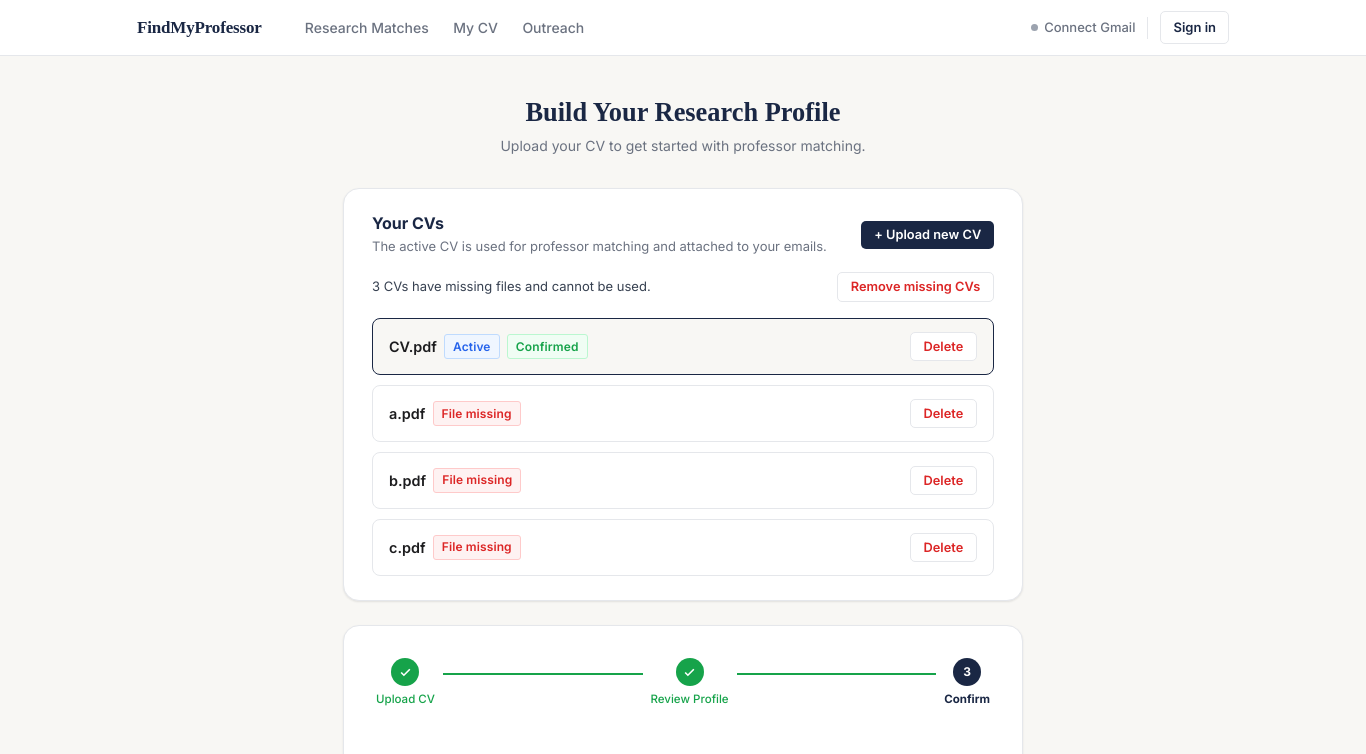
Test: My CV library cleanup › removes every CV with a missing file after one confirmation
Click the button "Remove missing CVs": (916, 287) [837,272,994,302]
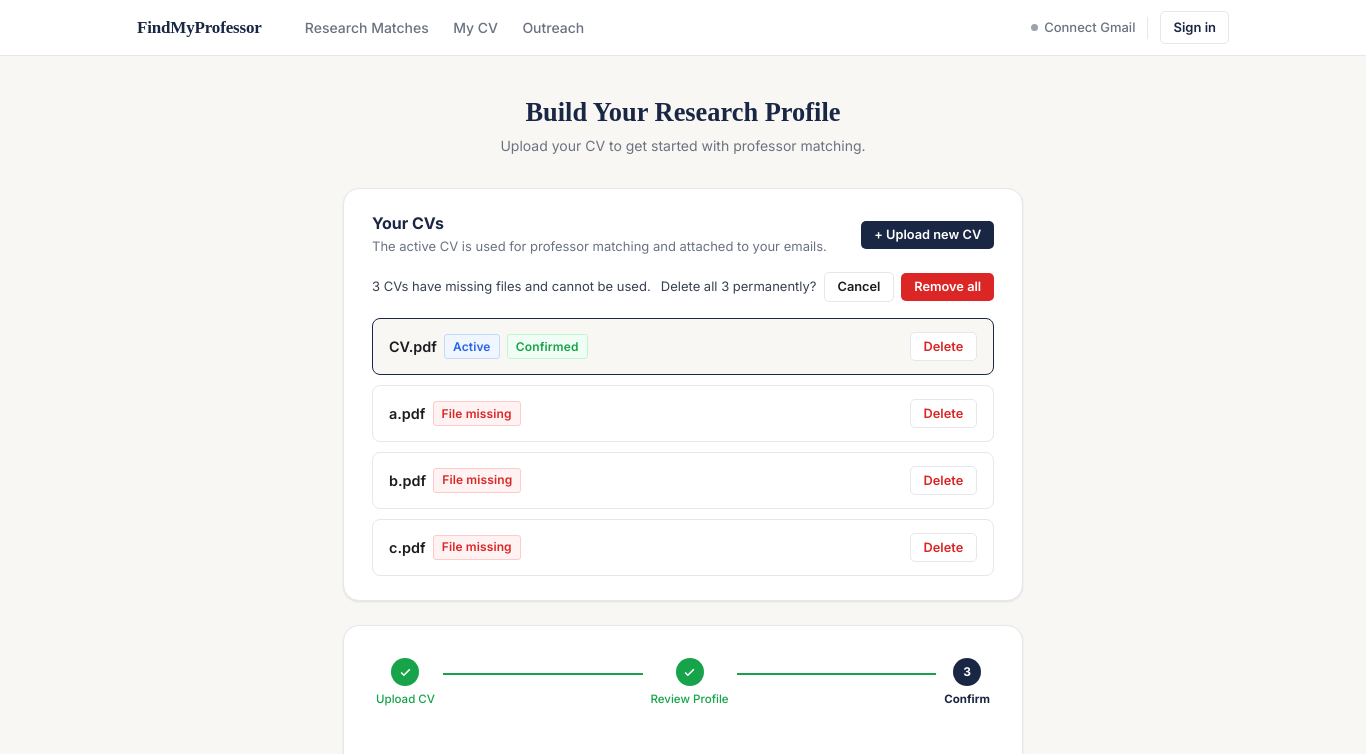
Click the button "Remove all": (948, 287) [902,273,994,301]
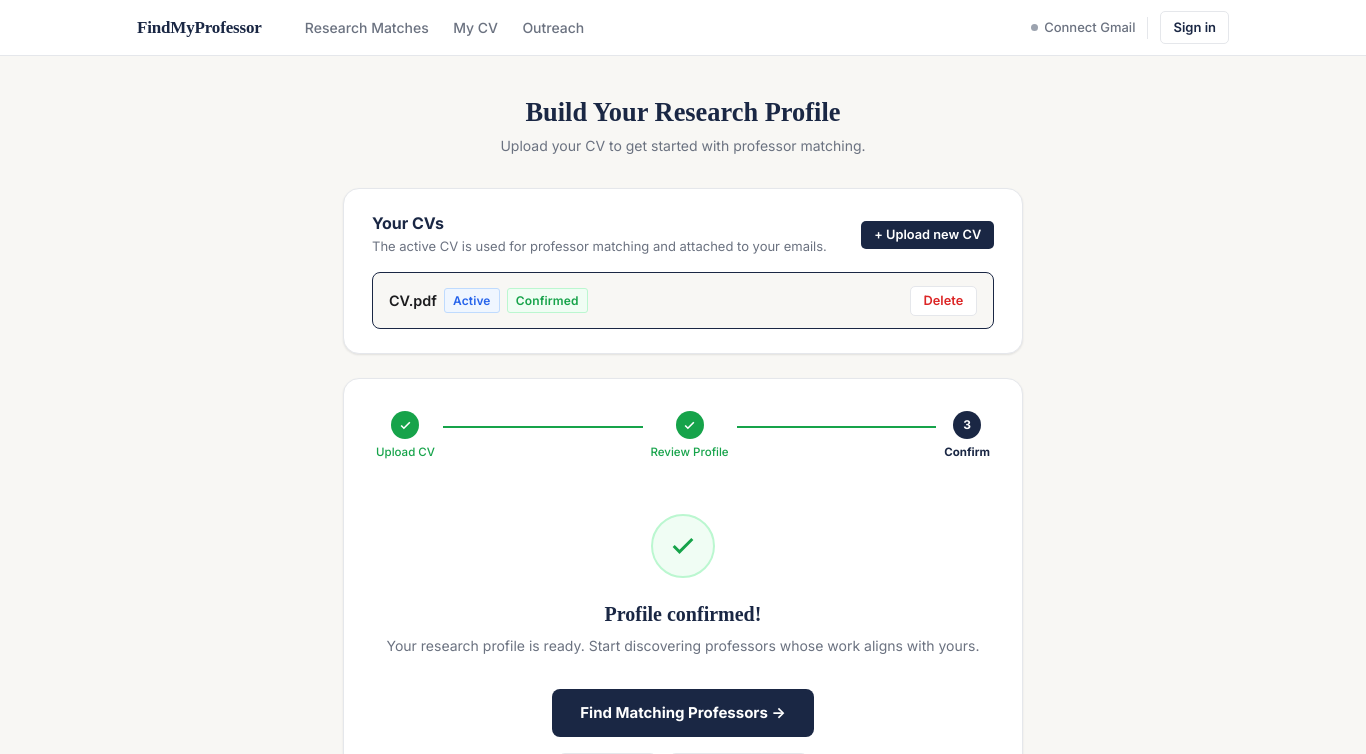
Expected: the number of list items with test id "cv-row" is 1, [372,272,994,330]
